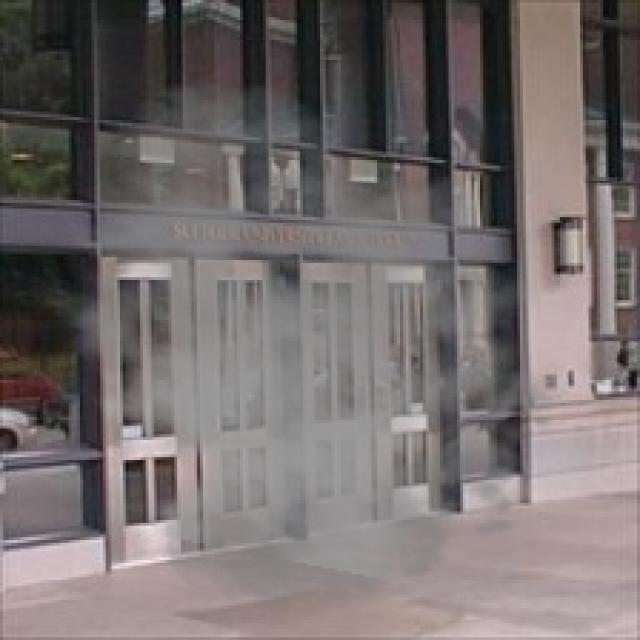smoke: (17, 77, 580, 620)
